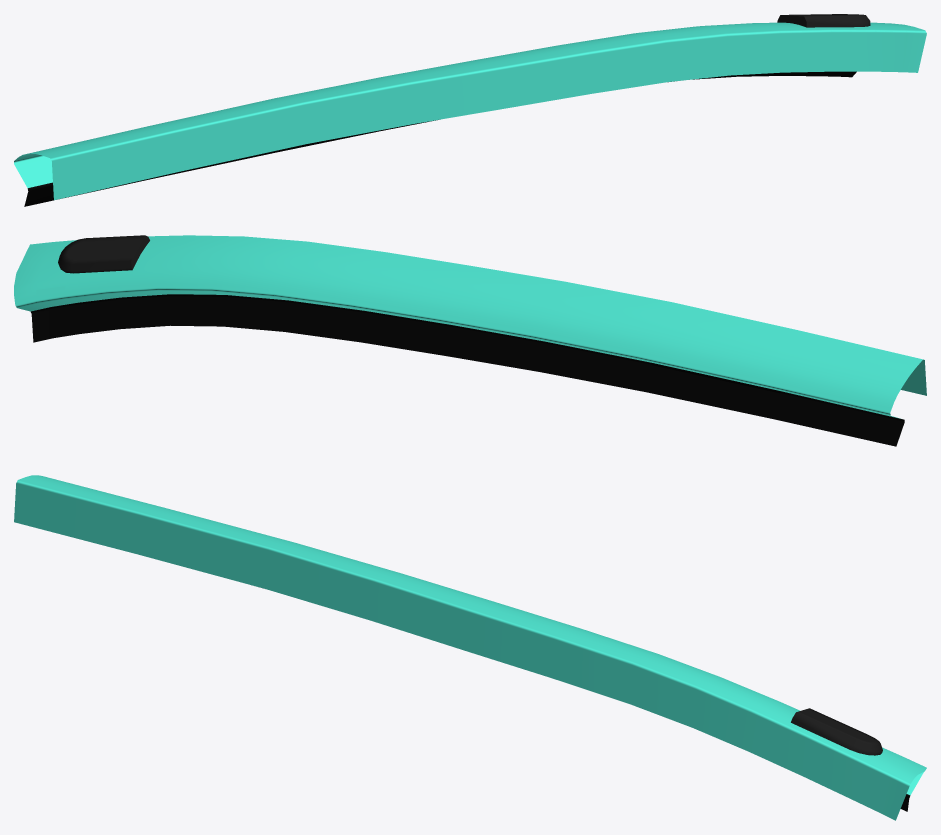
3 views of the same model, one above another, from view 1: azimuth 30°, elevation 25°; view 2: azimuth 150°, elevation 25°; view 3: azimuth 330°, elevation 25° (orthographic).
Visible parts, largest first — view 1: H025_10_18A5_L_1_DaS_H025_10_18A5_L, H025_10_18A5_L_H025_10_18A5_L_3_D, H025_10_18A5_L_H025_10_18A5_L_2_D; view 2: H025_10_18A5_L_1_DaS_H025_10_18A5_L, H025_10_18A5_L_H025_10_18A5_L_3_D, H025_10_18A5_L_H025_10_18A5_L_2_D; view 3: H025_10_18A5_L_1_DaS_H025_10_18A5_L, H025_10_18A5_L_H025_10_18A5_L_2_D.
Part boxes in pixels (x1,y1,x2,y2): H025_10_18A5_L_1_DaS_H025_10_18A5_L: (14,22,926,200); H025_10_18A5_L_H025_10_18A5_L_3_D: (24,71,856,206); H025_10_18A5_L_H025_10_18A5_L_2_D: (777,14,870,27); H025_10_18A5_L_1_DaS_H025_10_18A5_L: (14,235,926,418); H025_10_18A5_L_H025_10_18A5_L_3_D: (31,294,904,446); H025_10_18A5_L_H025_10_18A5_L_2_D: (58,235,149,273); H025_10_18A5_L_1_DaS_H025_10_18A5_L: (14,475,926,820); H025_10_18A5_L_H025_10_18A5_L_2_D: (791,708,882,755).
Bounding box in the file's own units: 79.37 × 13.49 × 8.65.
